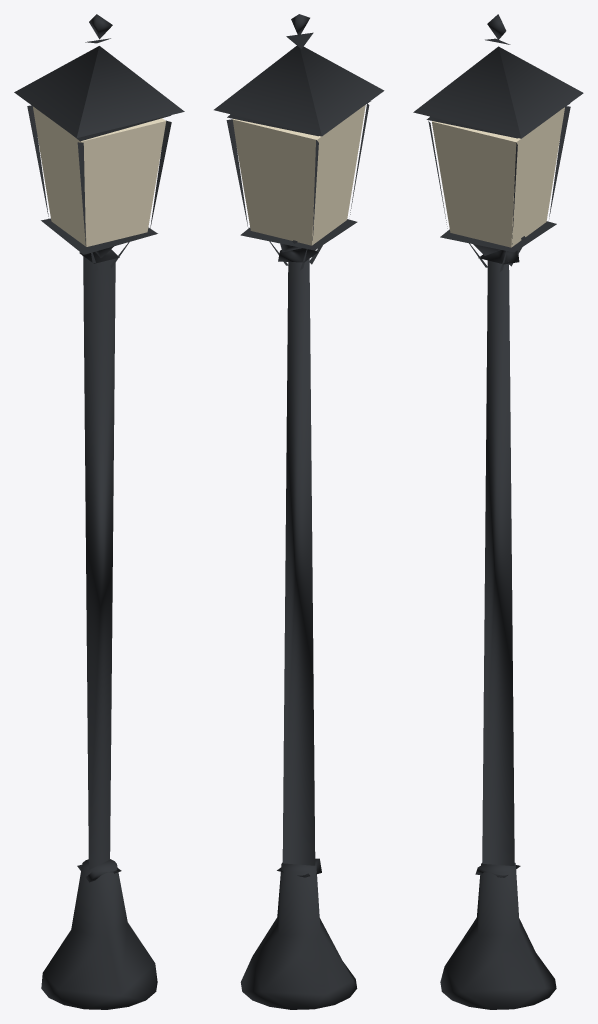
File: lampPost.far.glb
The picture shows the model from 3 angles, left to right: view 1: azimuth 30°, elevation 25°; view 2: azimuth 150°, elevation 25°; view 3: azimuth 330°, elevation 25°; orthographic projection.
Visible parts, largest first — view 1: lampPost_far; view 2: lampPost_far; view 3: lampPost_far.
Boxes of the visible parts, x1,y1,x2,y2 form: lampPost_far: (14, 14, 184, 1009); lampPost_far: (214, 14, 384, 1009); lampPost_far: (413, 14, 583, 1009).
Bounding box in the file's own units: 0.32 × 2.74 × 0.32.
